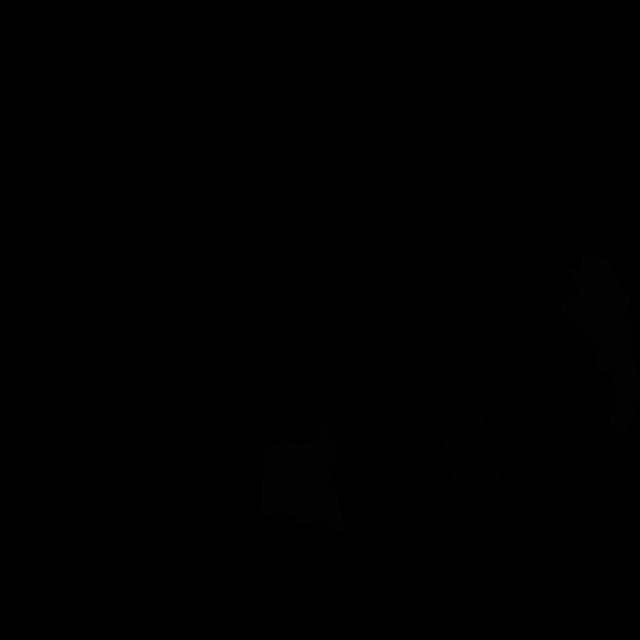cardboard: (561, 255, 640, 433), (260, 419, 346, 534)
rigid_plastic: (442, 411, 503, 511)
